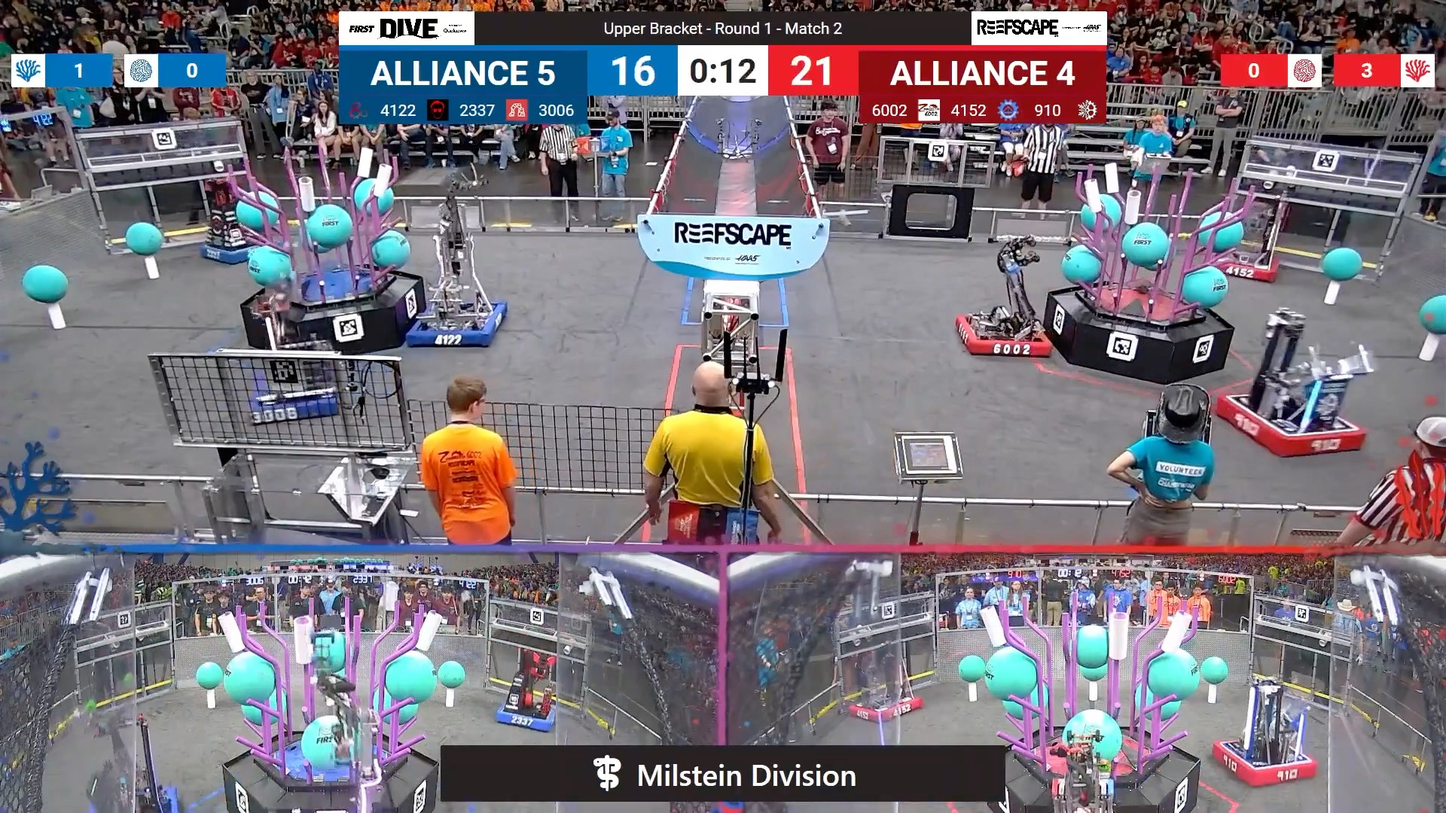bumpers: (1206, 385, 1374, 462), (244, 358, 359, 429), (396, 294, 511, 353), (1209, 738, 1325, 790), (950, 308, 1057, 360), (75, 771, 188, 811), (1194, 242, 1287, 285), (490, 696, 563, 735), (843, 690, 926, 722), (193, 237, 271, 270)
